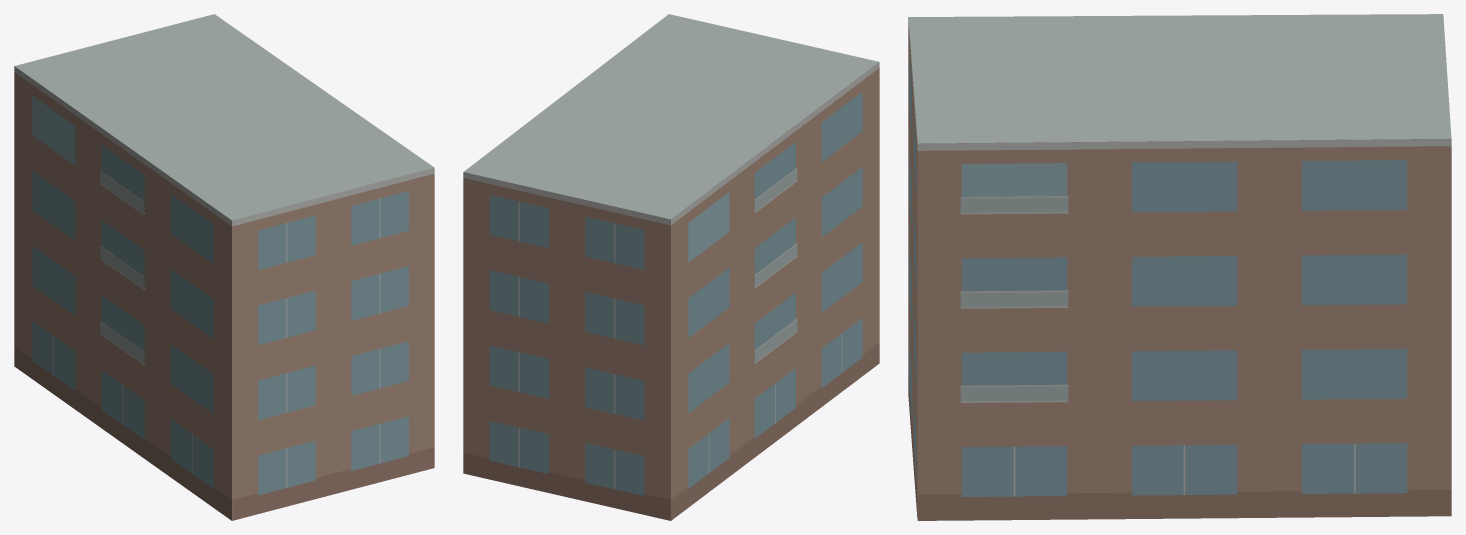
The model's file is survey-upis-32726744.glb.
3 renders of one model, left to right at view 1: azimuth 30°, elevation 25°; view 2: azimuth 150°, elevation 25°; view 3: azimuth 270°, elevation 25°, orthographic. The views are drawn at different scales.
Parts seen in each view (by area): view 1: survey-upis-32726744.tmp; view 2: survey-upis-32726744.tmp; view 3: survey-upis-32726744.tmp.
Part boxes in pixels (<box>): survey-upis-32726744.tmp: <box>14,14,434,520</box>; survey-upis-32726744.tmp: <box>463,14,879,520</box>; survey-upis-32726744.tmp: <box>908,14,1451,520</box>.
Size of the model in its own units: 9.14 by 12.4 by 16.18.
